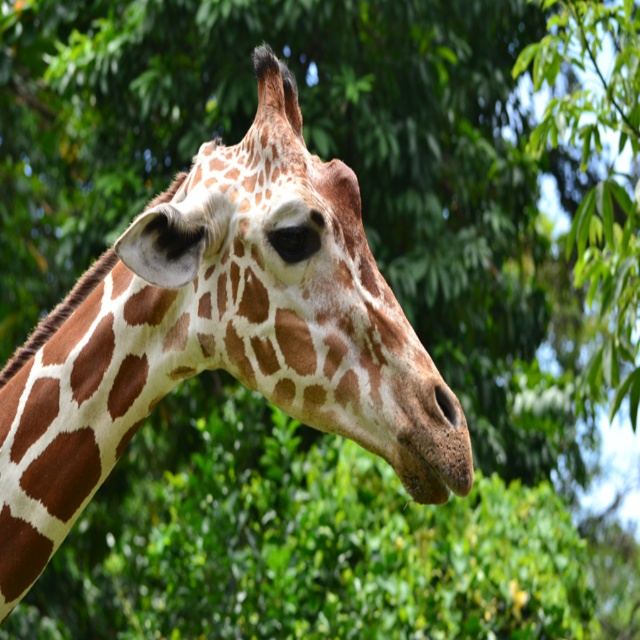Giraffe: (0, 39, 471, 633)
